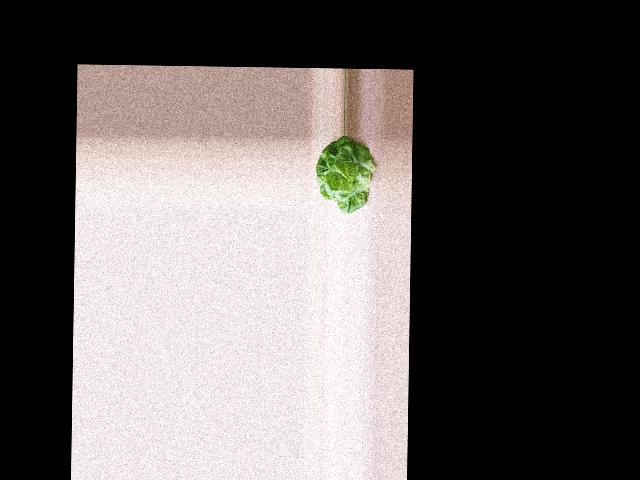lettuce: (315, 136, 373, 211)
